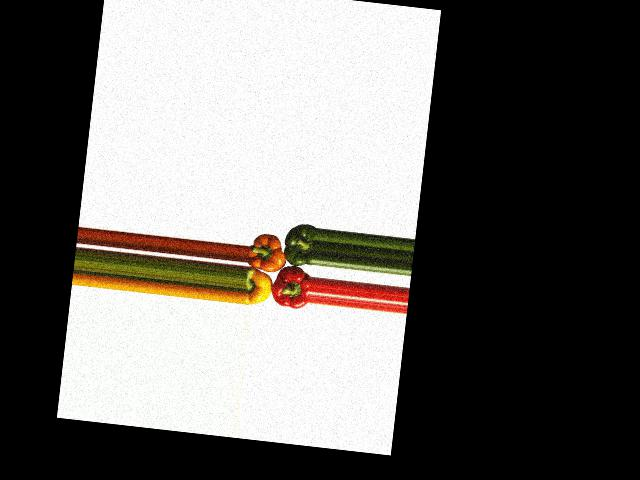bell_pepper: (242, 264, 276, 308)
